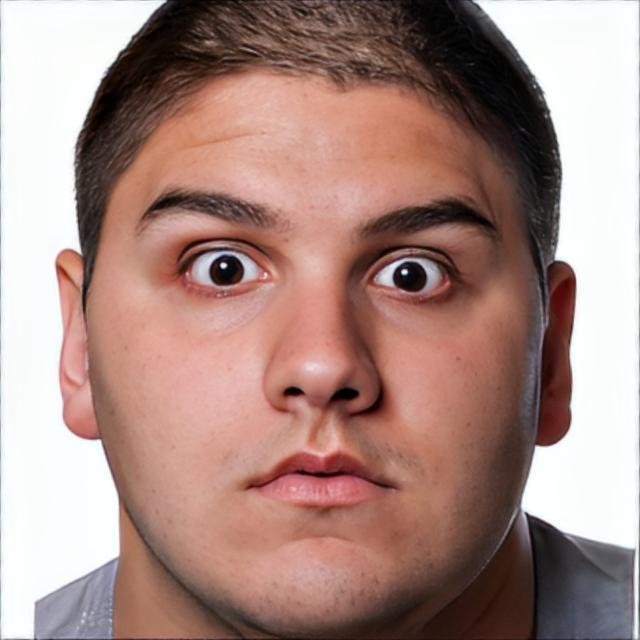surprise: (86, 0, 544, 640)
